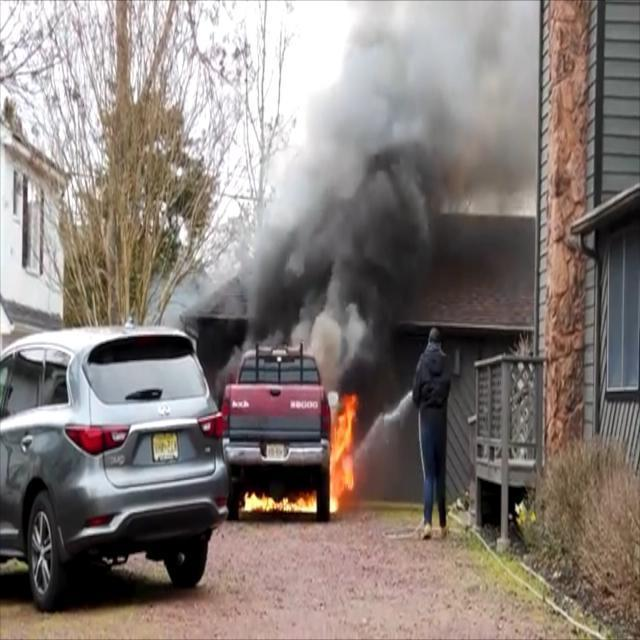fire: (324, 388, 364, 514), (243, 490, 321, 518)
